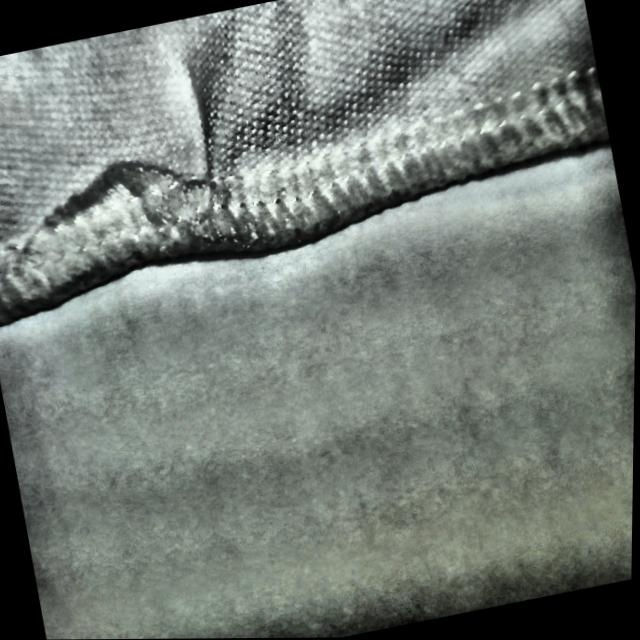seam: (18, 54, 284, 296)
